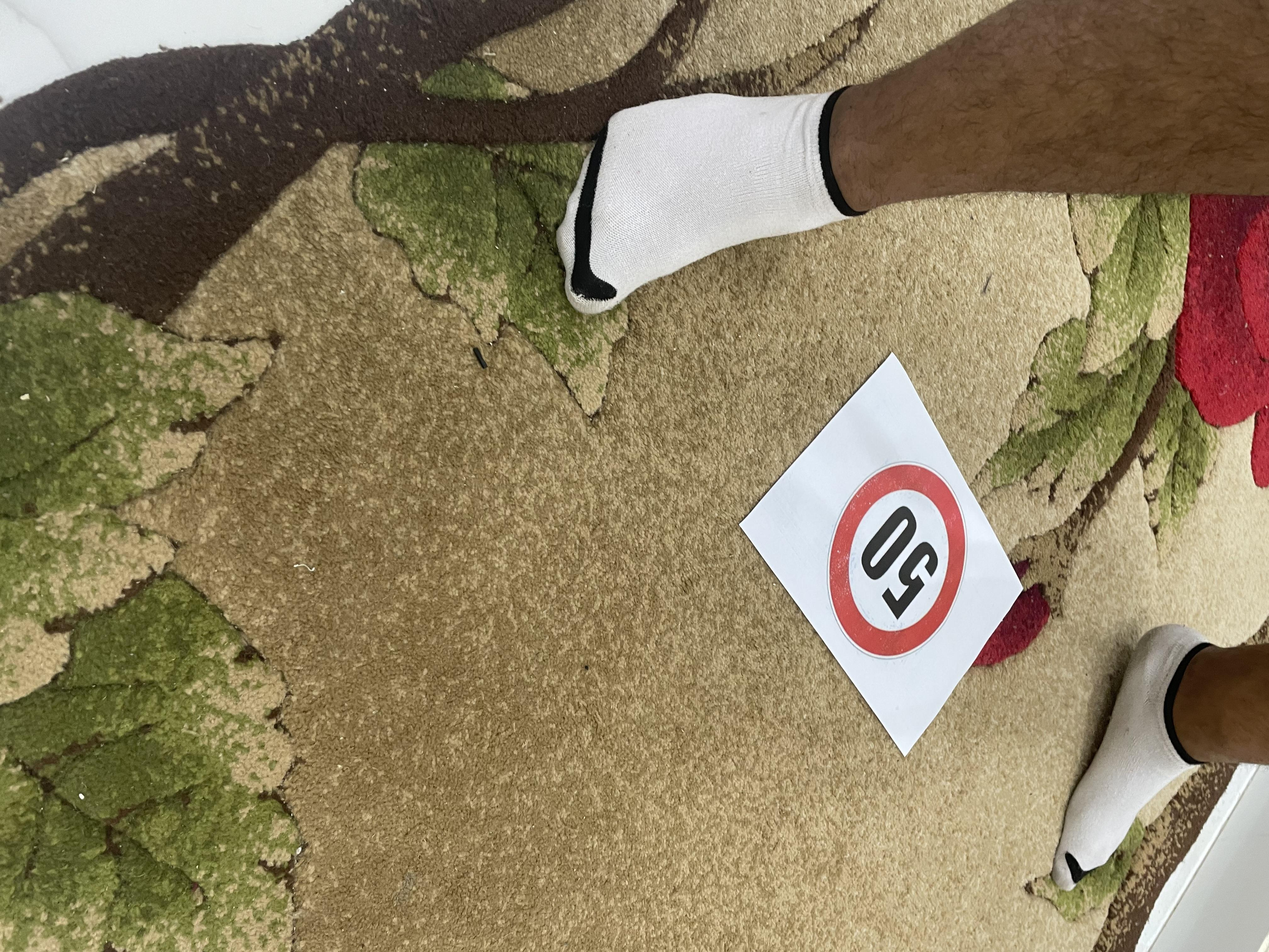50-Speed: (614, 223, 887, 333)
